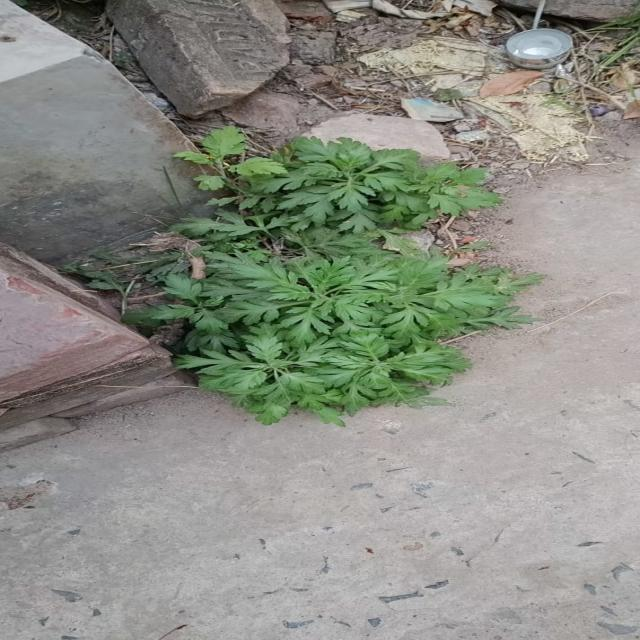plant: (123, 127, 539, 425)
